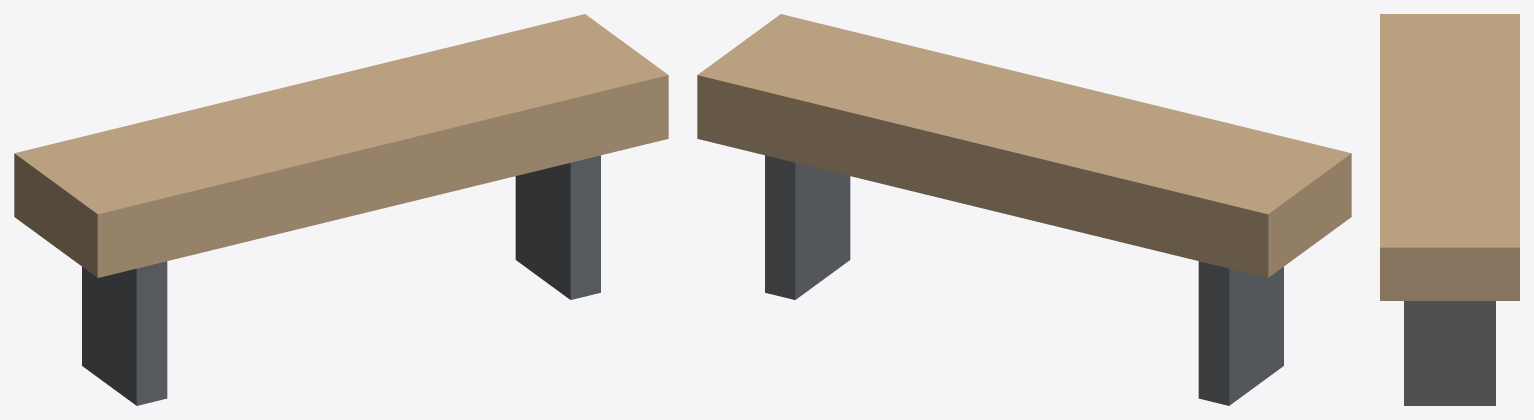
File: gallery_bench_02.glb
The picture shows the model from 3 angles, left to right: view 1: azimuth 30°, elevation 25°; view 2: azimuth 150°, elevation 25°; view 3: azimuth 270°, elevation 25°; orthographic projection. The views are drawn at different scales.
Parts seen in each view (by area): view 1: seat, leg-0.5700000000000001, leg0.5700000000000001; view 2: seat, leg-0.5700000000000001, leg0.5700000000000001; view 3: seat, leg0.5700000000000001.
Boxes of the visible parts, x1,y1,x2,y2 form: seat: (14,14,668,277); leg-0.5700000000000001: (82,261,167,405); leg0.5700000000000001: (515,155,600,299); seat: (697,14,1351,277); leg-0.5700000000000001: (1198,261,1283,405); leg0.5700000000000001: (765,155,850,299); seat: (1380,14,1519,300); leg0.5700000000000001: (1404,301,1495,405).
Bounding box in the file's own units: 1.5 × 0.54 × 0.38.
